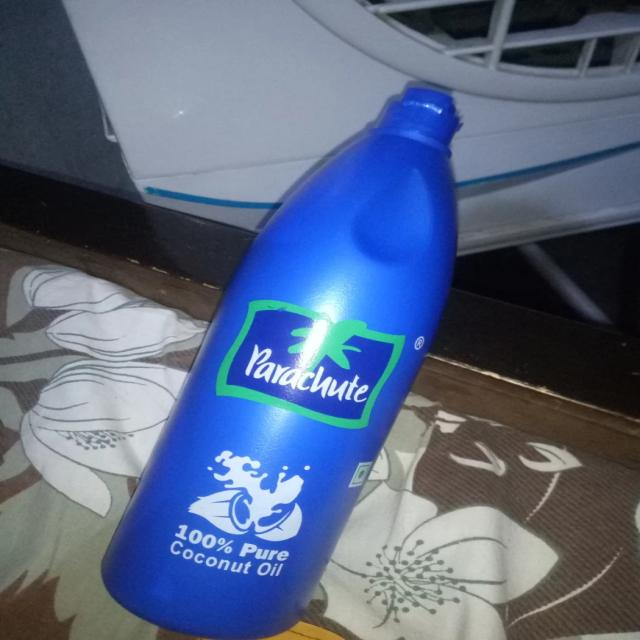parachute_oil: (97, 82, 472, 632)
